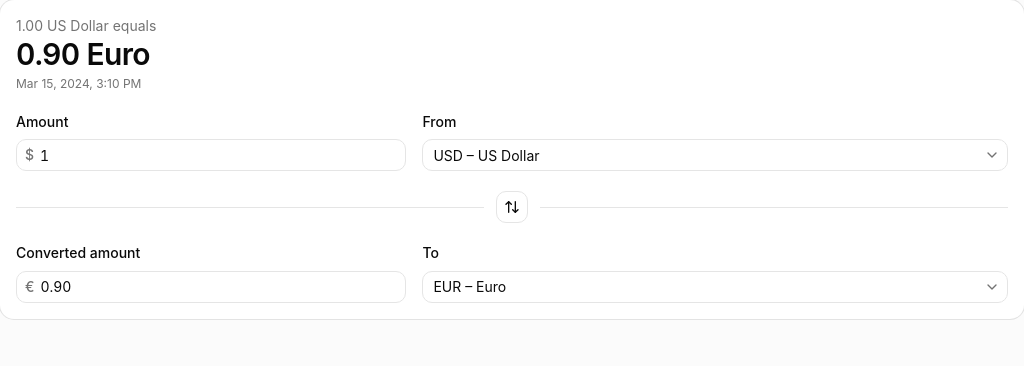
it: CurrencyConverter › doesn't offer the other side's currency in the To list
The image size is (1024, 366).
Expected: the field labelled "Converted amount" holds "0.90", 34,270 -> 405,302
Replace the text in the dropdown labelled "To" with "US Dollar" at (702,286), box 423,270 -> 980,302
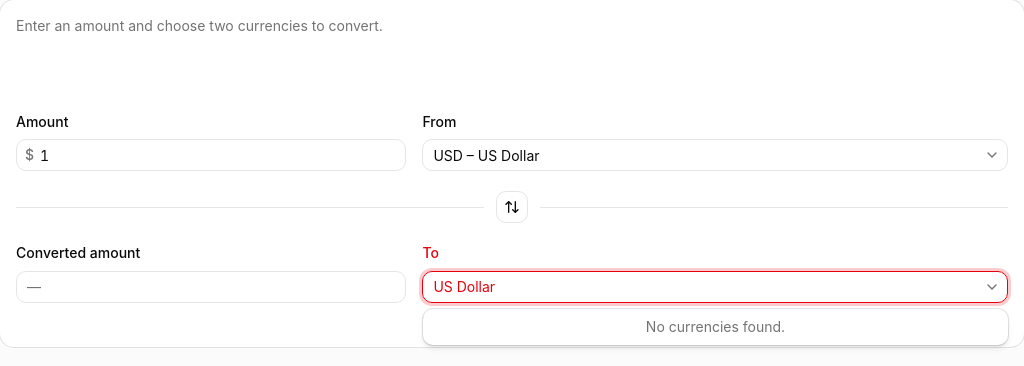
Expected: the text "No currencies found." is shown, 646,318 -> 785,335
